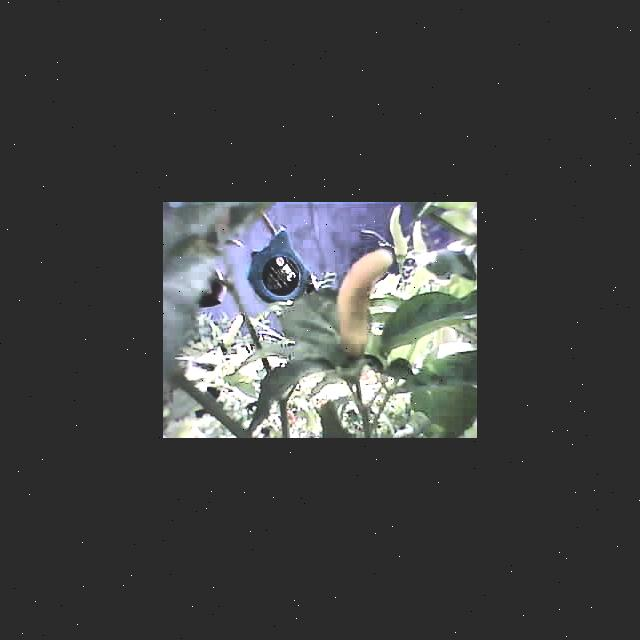Cabai: (336, 244, 386, 360)
